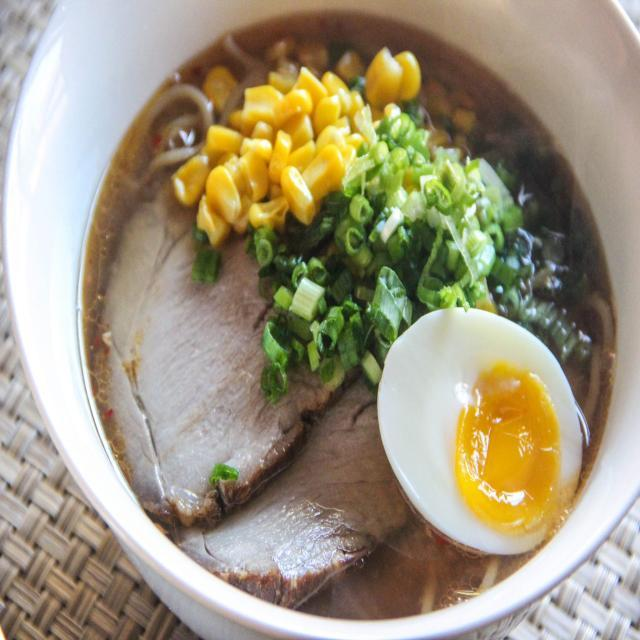bap: (176, 26, 437, 239)
cac loai rau cu: (256, 101, 594, 399)
mi misoramen: (76, 6, 622, 624)
thit heo: (100, 168, 351, 527), (159, 346, 405, 612)
trung: (377, 305, 585, 549)
